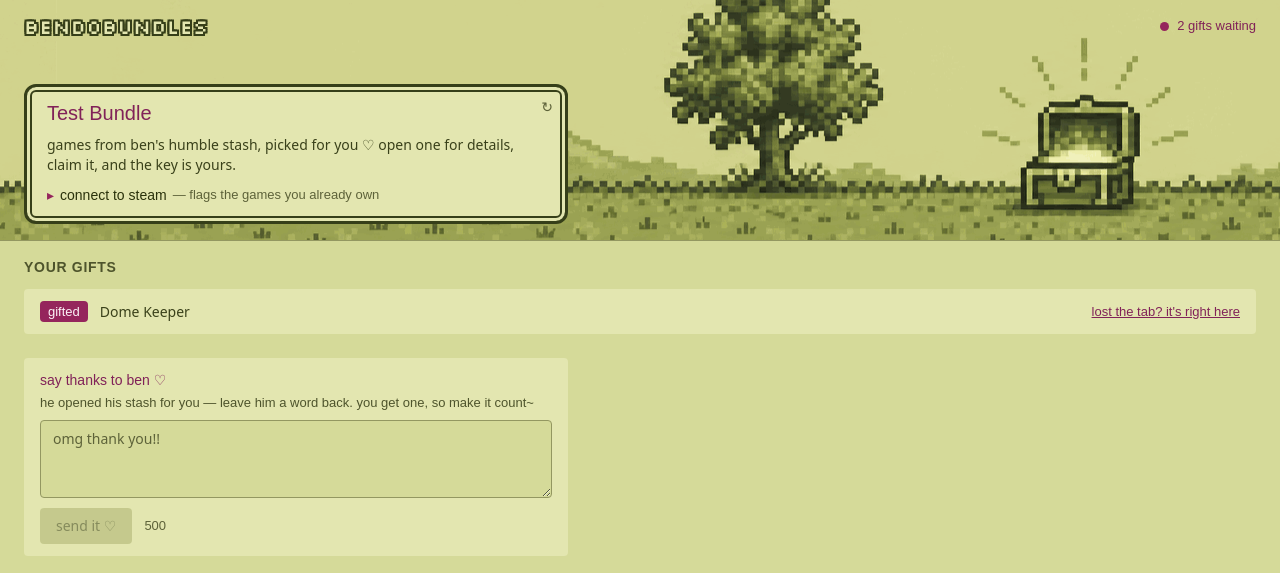
Test: LinkPage › say-thanks card › sends the trimmed note once and flips to the sent state
The image size is (1280, 573).
Expected: the heading "say thanks to ben ♡" is shown, [40,372,166,388]
Type "  ben you legend  " into the text box named "your thank-you note" at (296, 459), box [40,420,552,498]
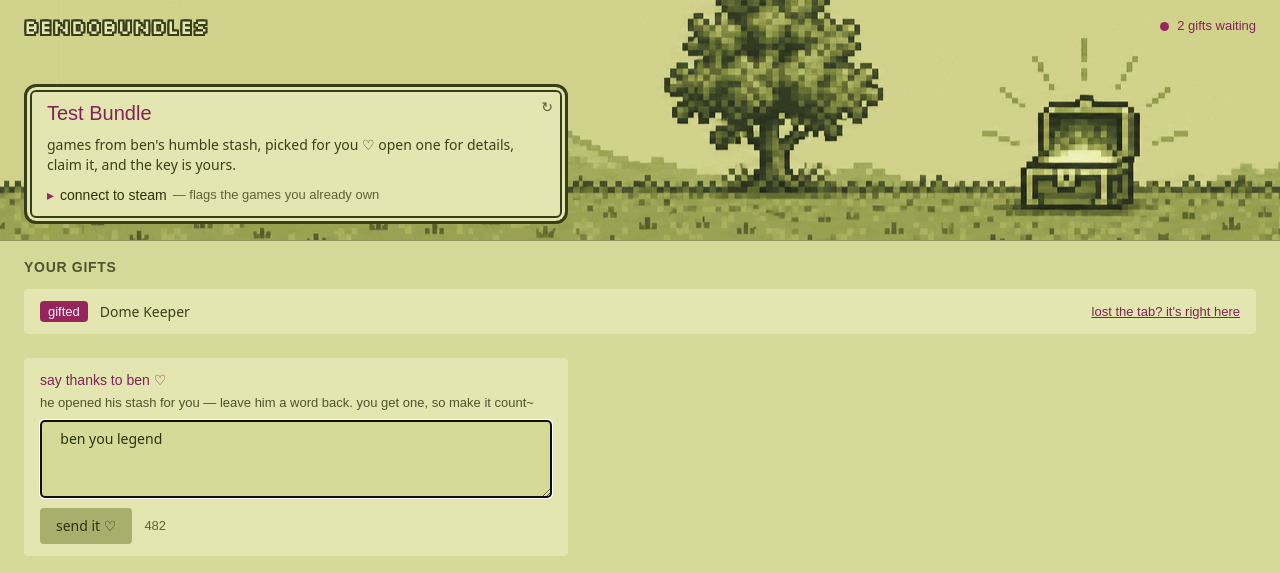
Click the button "send it ♡" at (86, 526), box [40,508,132,544]
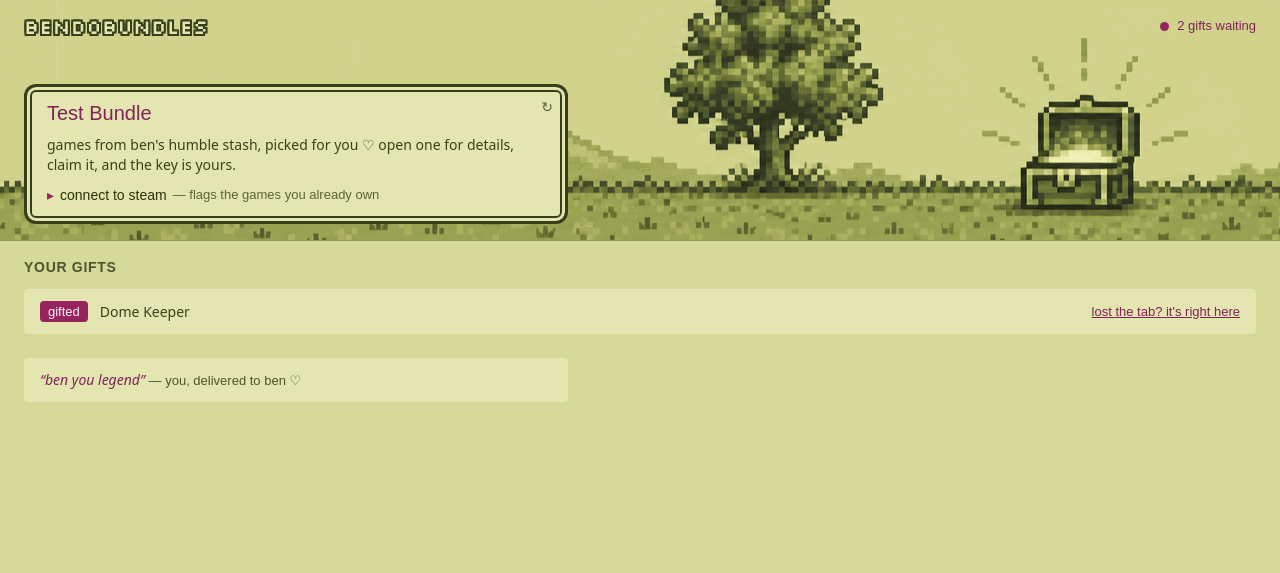
Expected: the text "“ben you legend” — you, delivered to ben ♡" is shown, [40,370,301,389]
Expected: the text "— you, delivered to ben ♡" is shown, [149,373,301,388]
